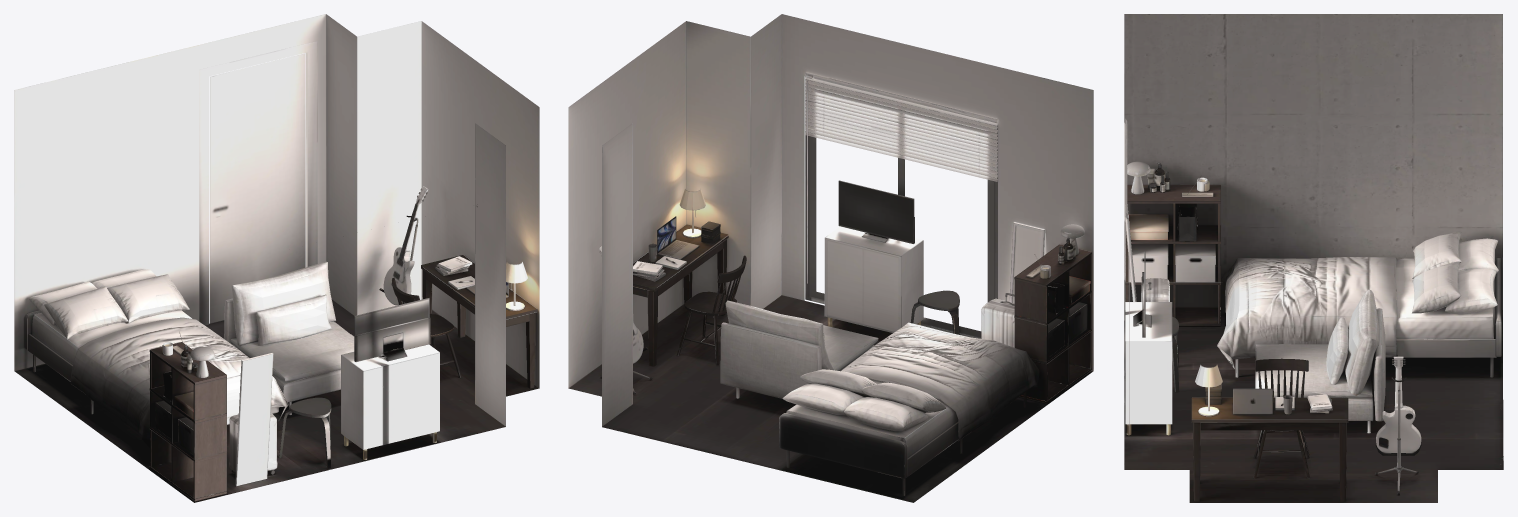
3 views of the same model, side by side, from view 1: azimuth 30°, elevation 25°; view 2: azimuth 150°, elevation 25°; view 3: azimuth 270°, elevation 25° (orthographic). The views are drawn at different scales.
Parts seen in each view (by area): view 1: retopoBed_Baked_light; view 2: retopoBed_Baked_light; view 3: retopoBed_Baked_light.
Boxes of the visible parts, <box> form: retopoBed_Baked_light: <box>14,14,539,502</box>; retopoBed_Baked_light: <box>568,14,1093,502</box>; retopoBed_Baked_light: <box>1124,14,1503,502</box>.
Bounding box in the file's own units: 3.5 × 2.5 × 2.92.
Materials: 1 (1 with a texture image).
